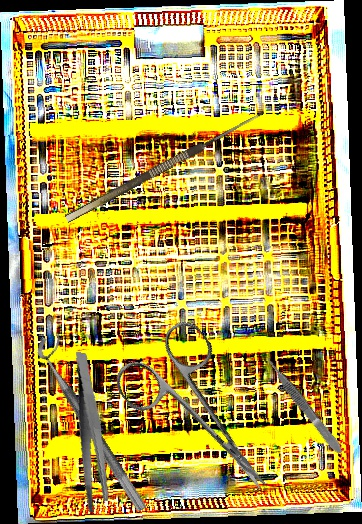Dressing Forceps: (52, 351, 130, 515)
Fixation Ring: (31, 328, 162, 514)
Hook Surgical: (58, 99, 267, 223)
Iris Scissors: (107, 314, 301, 522)
Tissue Forceps: (263, 353, 345, 457)
